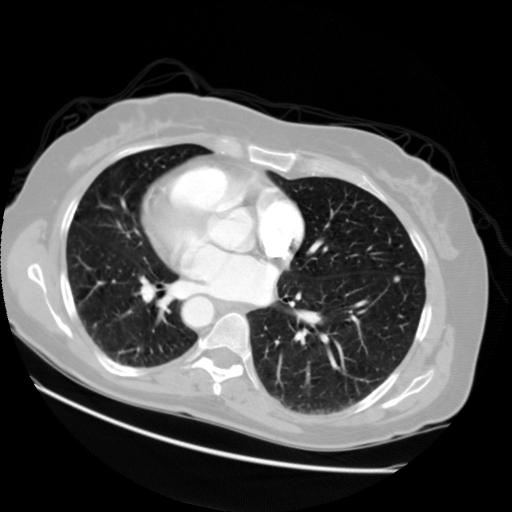nodule: (392, 272, 406, 286)
